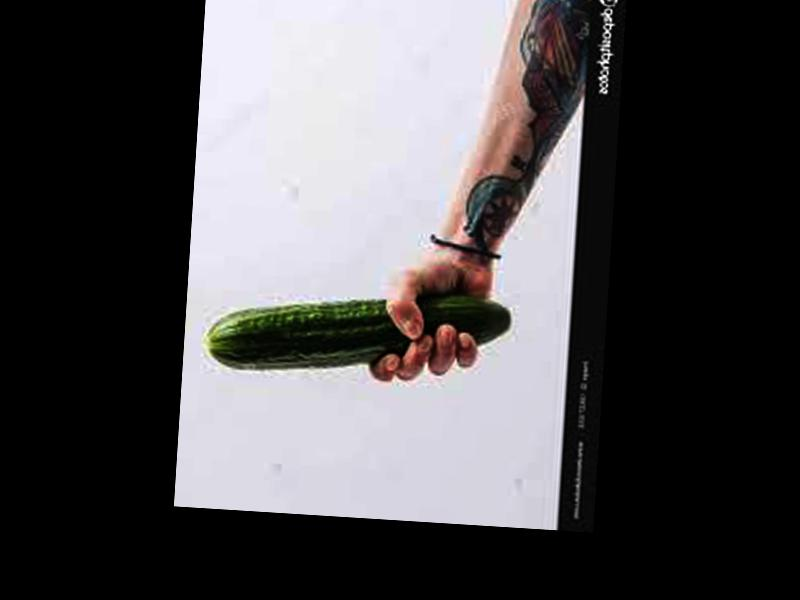Cucumber: (202, 280, 509, 386)
